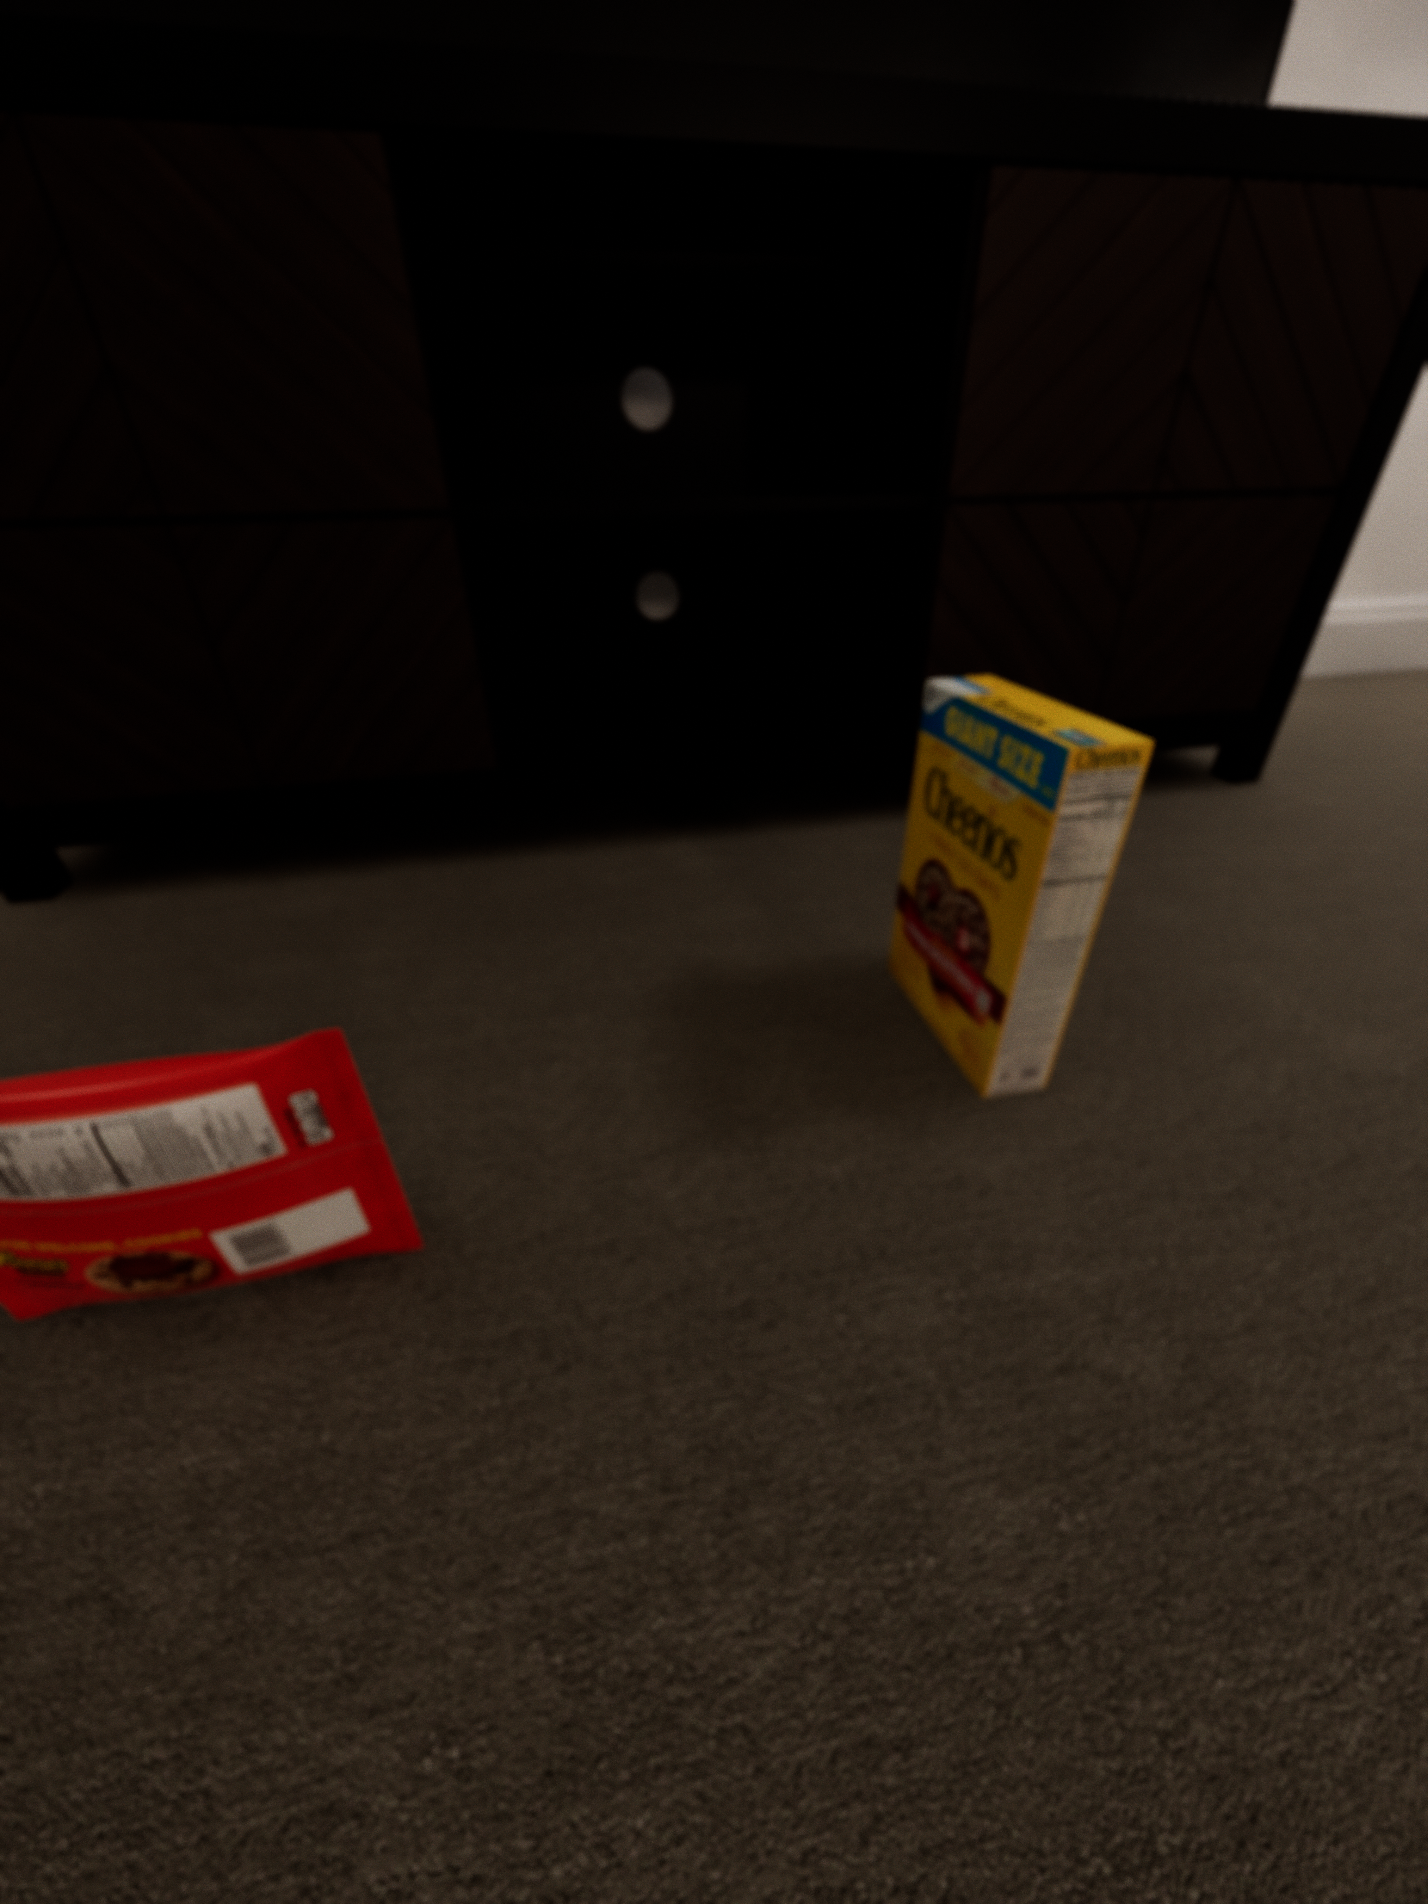cheerios: (574, 0, 913, 1127)
